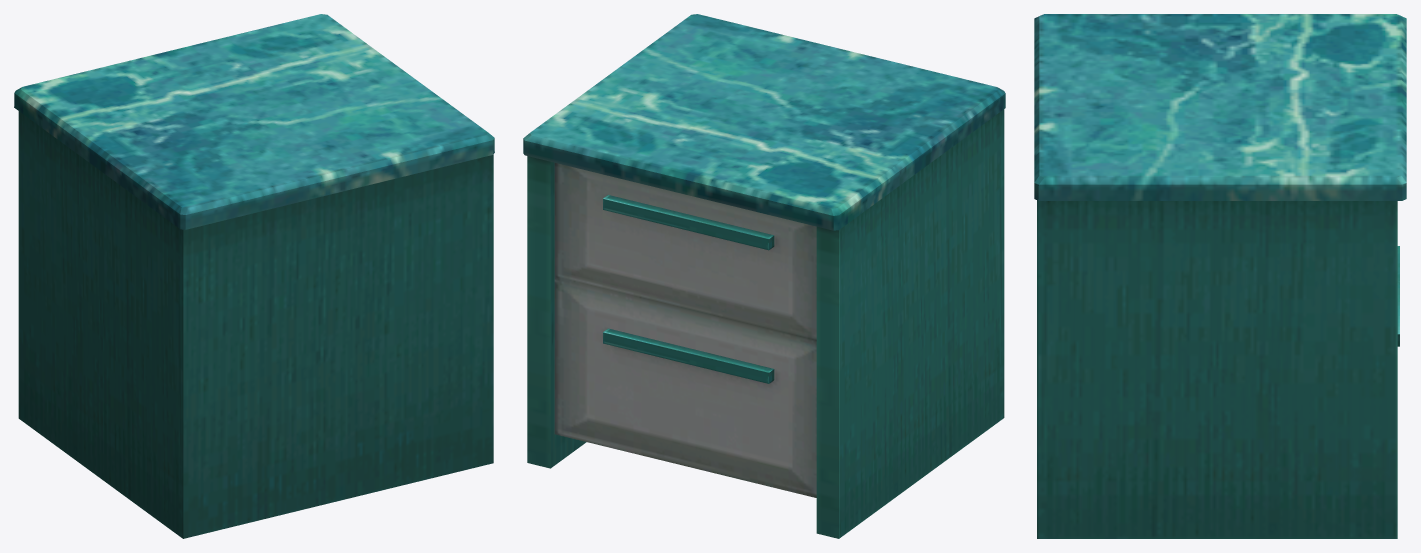
Rendered from furni_0200522_02.FBX.
The picture shows the model from 3 angles, left to right: view 1: azimuth 30°, elevation 25°; view 2: azimuth 150°, elevation 25°; view 3: azimuth 270°, elevation 25°; orthographic projection. The views are drawn at different scales.
Visible parts, largest first — view 1: furni_0200522_02; view 2: furni_0200522_02; view 3: furni_0200522_02.
Part boxes in pixels (left/top/right/bottom): furni_0200522_02: left=14, top=14, right=494, bottom=538; furni_0200522_02: left=523, top=14, right=1005, bottom=538; furni_0200522_02: left=1034, top=14, right=1406, bottom=538.
Bounding box in the file's own units: 80.03 × 79.98 × 74.96.
Materials: 1 (1 with a texture image).
